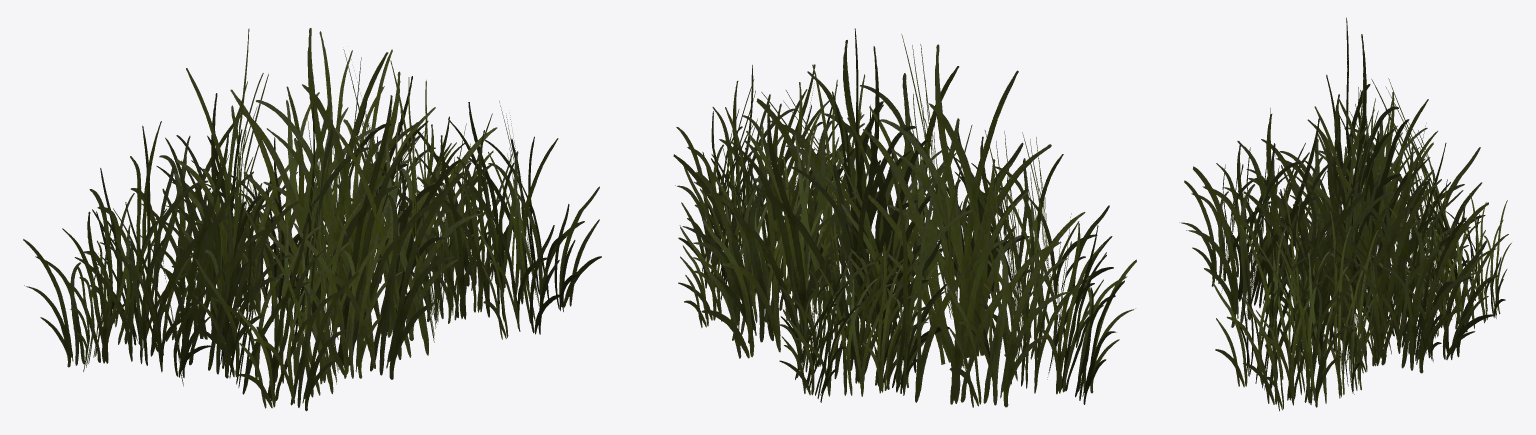
3 renders of one model, left to right at view 1: azimuth 30°, elevation 25°; view 2: azimuth 150°, elevation 25°; view 3: azimuth 270°, elevation 25°, orthographic. The views are drawn at different scales.
Visible parts, largest first — view 1: SM_BM_Grass_Long_01_D_LOD0; view 2: SM_BM_Grass_Long_01_D_LOD0; view 3: SM_BM_Grass_Long_01_D_LOD0.
Boxes of the visible parts, x1,y1,x2,y2 form: SM_BM_Grass_Long_01_D_LOD0: [23, 28, 601, 411]; SM_BM_Grass_Long_01_D_LOD0: [673, 28, 1136, 407]; SM_BM_Grass_Long_01_D_LOD0: [1179, 17, 1511, 411].
Bounding box in the file's own units: 1.61 × 0.943 × 1.09.
Materials: 1 (1 with a texture image).
